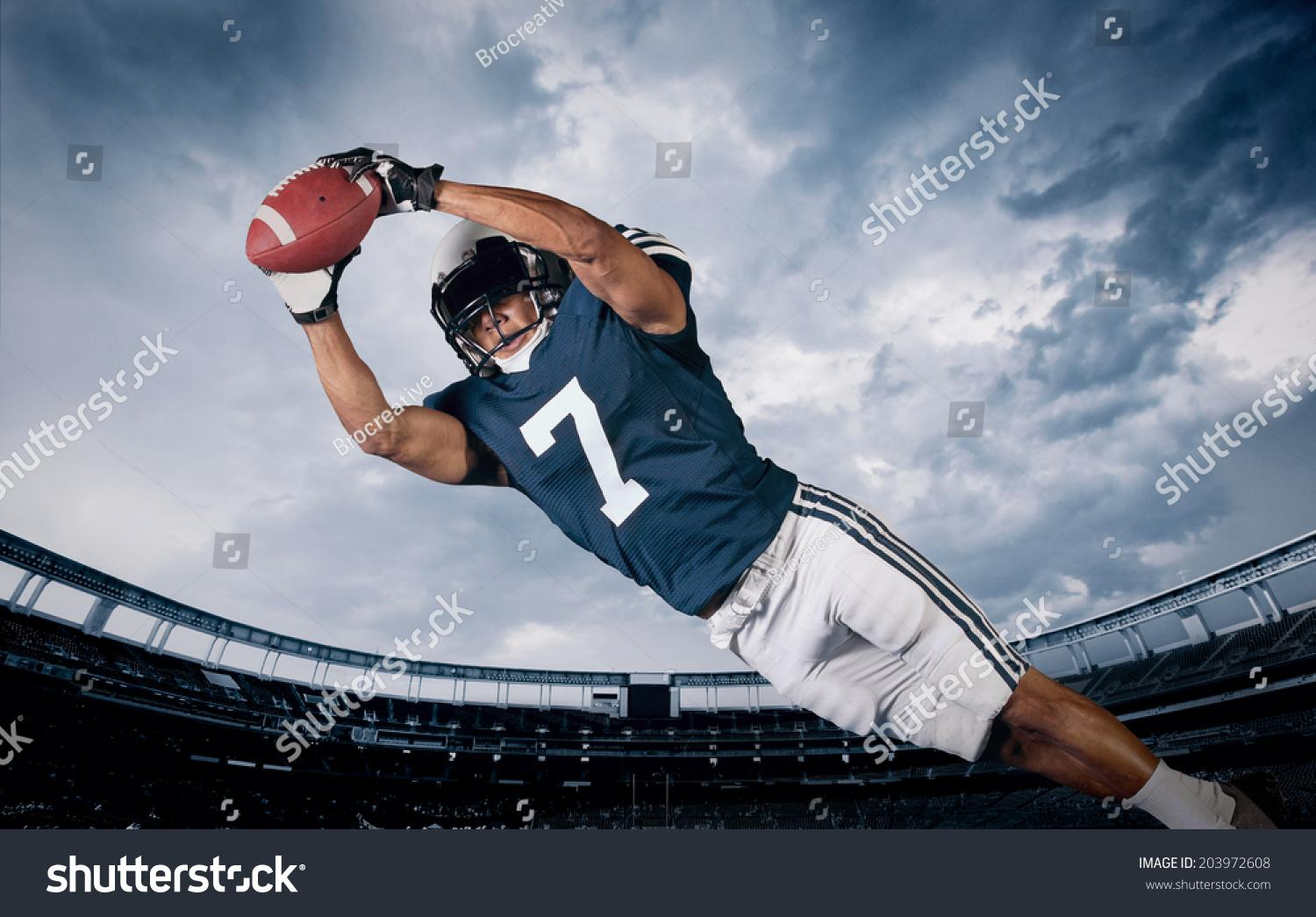americanFootball: (247, 153, 377, 268)
